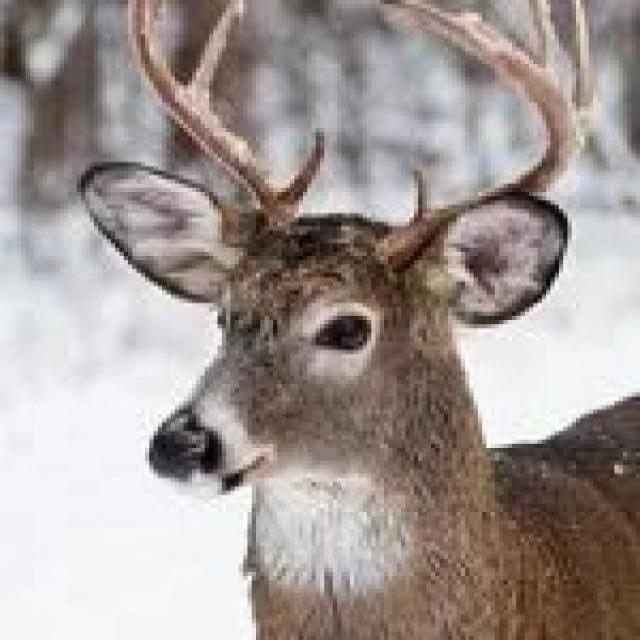deer: (125, 99, 640, 629)
